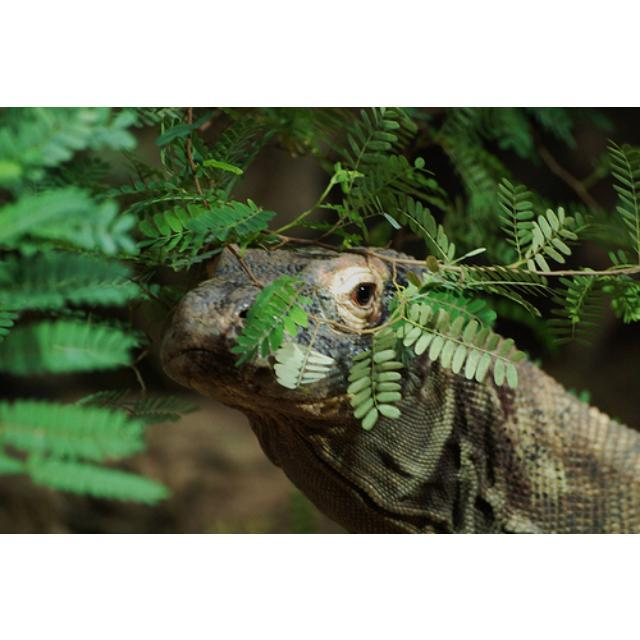KomodoDragon: (157, 240, 638, 531)
